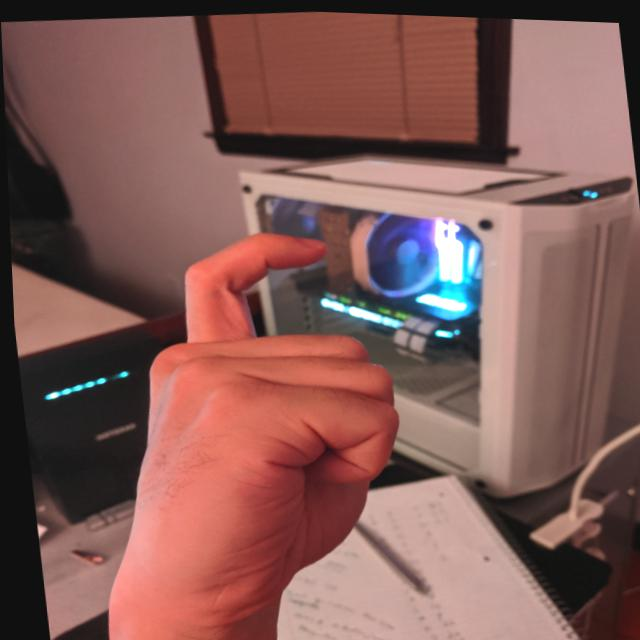X: (54, 211, 423, 623)
